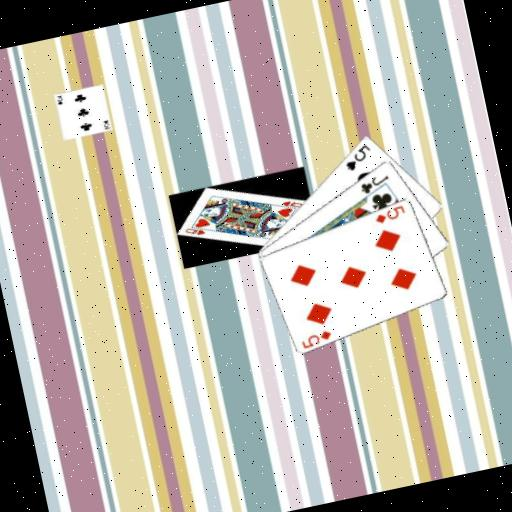5D: (296, 325, 334, 350), (370, 201, 407, 226)
5S: (338, 140, 375, 174)
JC: (356, 170, 393, 197)
